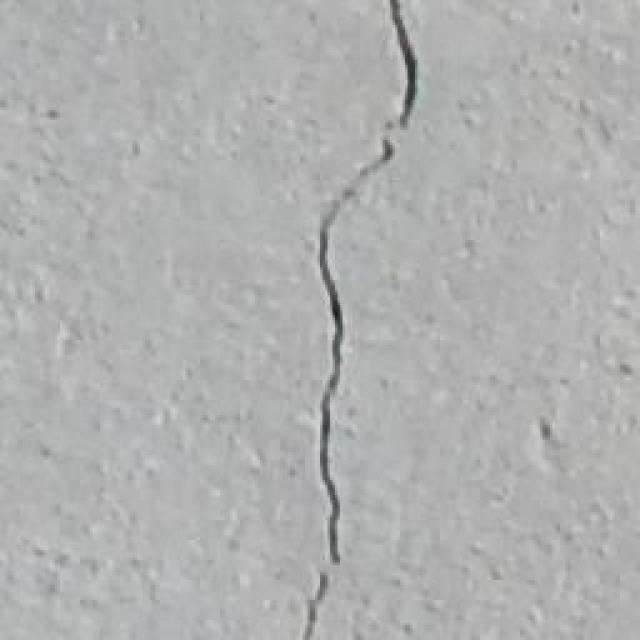Crack: (318, 0, 415, 562), (305, 575, 322, 638)
